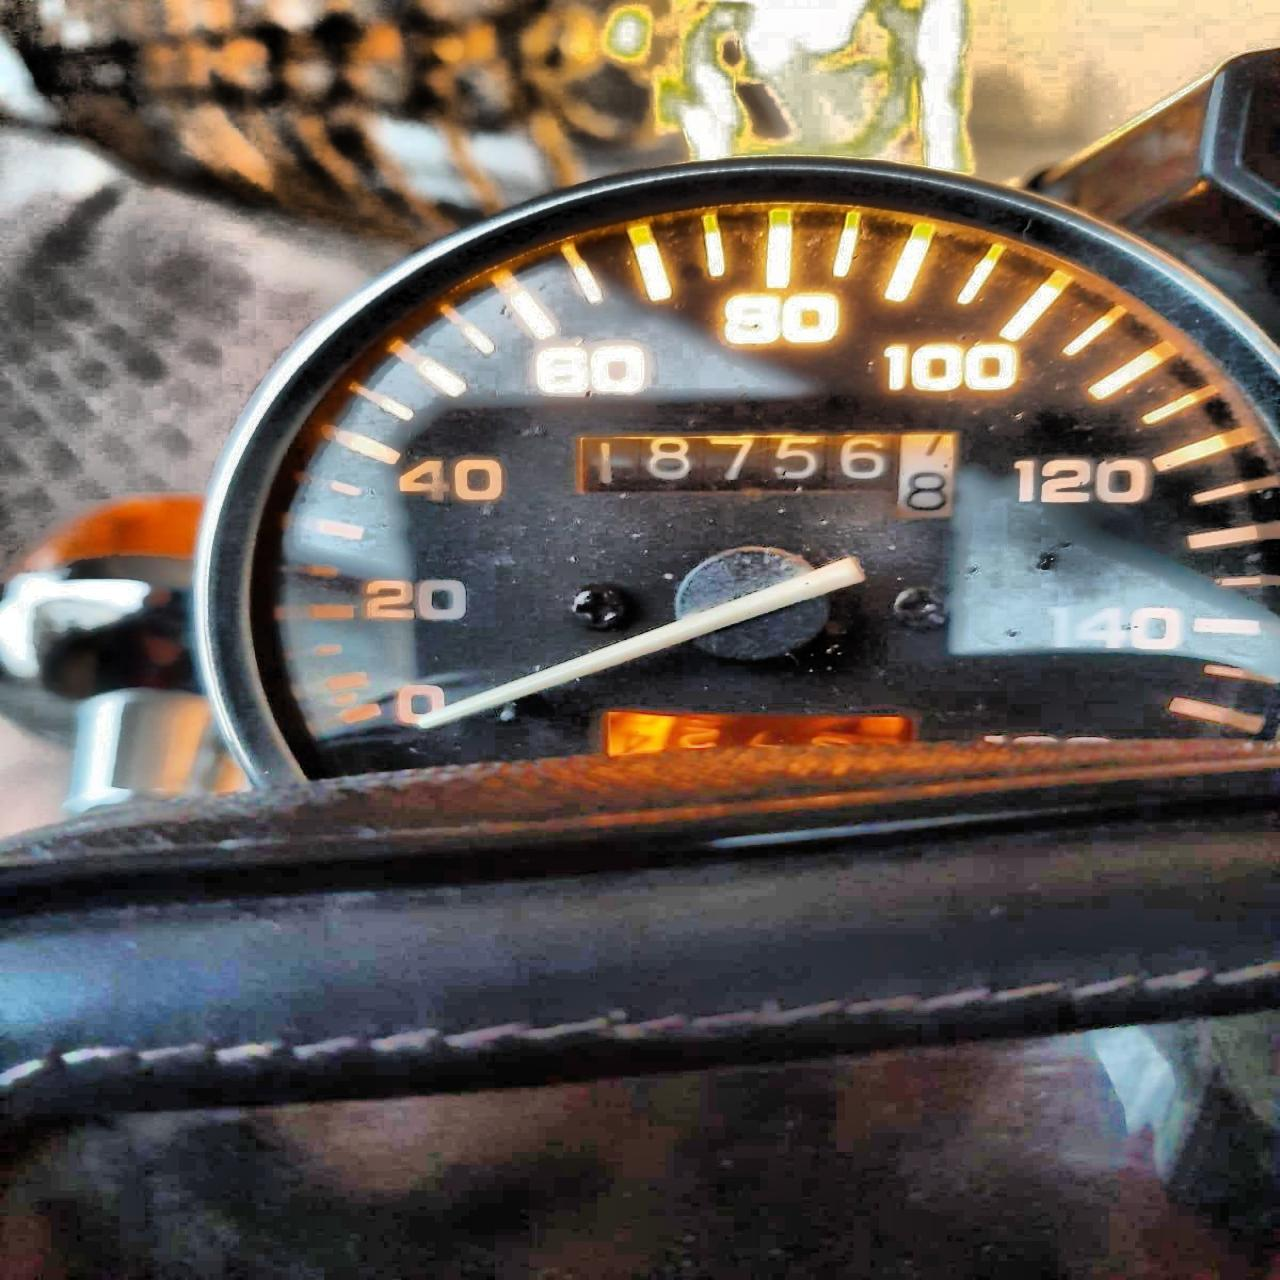1: (593, 440, 620, 484)
5: (770, 436, 821, 481)
6: (836, 436, 886, 481)
7: (706, 435, 753, 483)
8: (898, 463, 953, 516), (641, 433, 694, 481)
odometer: (553, 416, 975, 533)
